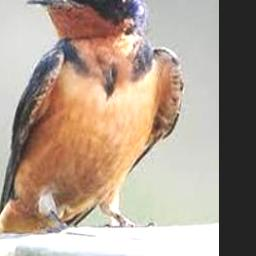Swallow: (0, 0, 185, 234)
